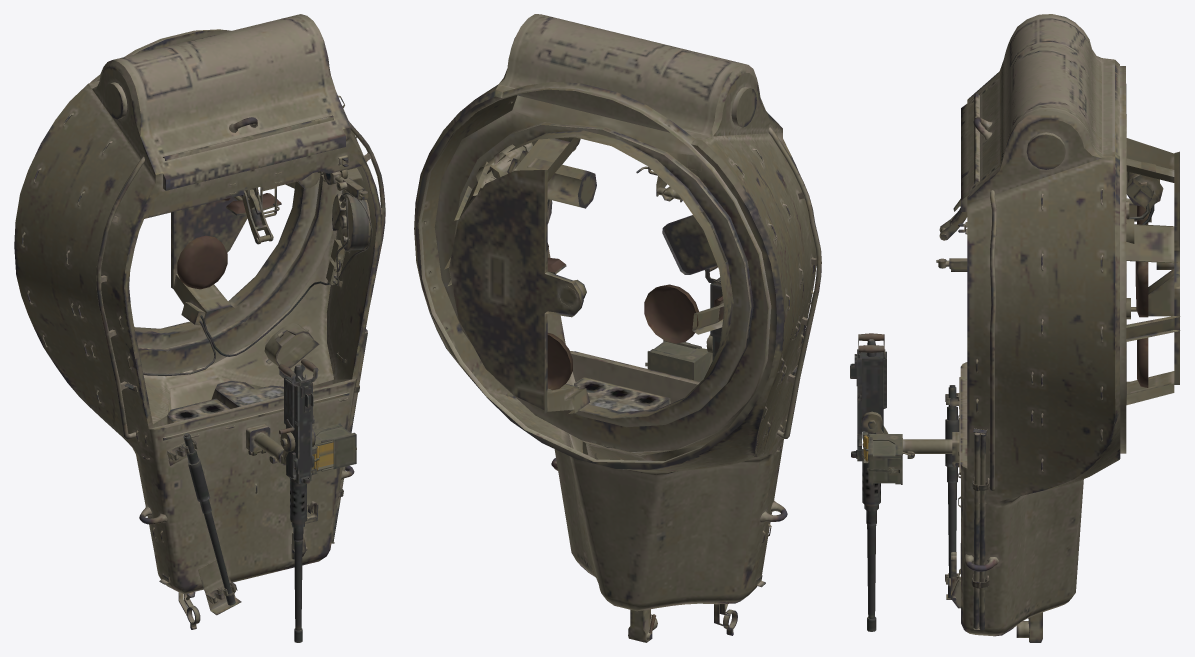
Rendered from Turret_01.glb.
3 renders of one model, left to right at view 1: azimuth 30°, elevation 25°; view 2: azimuth 150°, elevation 25°; view 3: azimuth 270°, elevation 25°, orthographic. The views are drawn at different scales.
Parts seen in each view (by area): view 1: set_0_group_0; view 2: set_0_group_0; view 3: set_0_group_0.
Boxes of the visible parts, left/top/right/bottom form: set_0_group_0: left=14, top=14, right=385, bottom=642; set_0_group_0: left=414, top=14, right=821, bottom=642; set_0_group_0: left=850, top=14, right=1180, bottom=642.
Bounding box in the file's own units: 2.11 × 3.29 × 1.7.
Materials: 1 (1 with a texture image).
